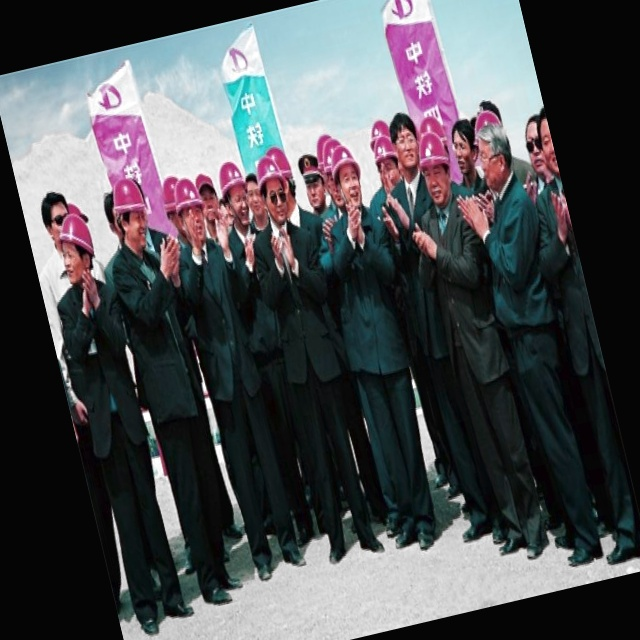Con_Casco: (325, 142, 372, 219), (109, 175, 155, 252)
Sin_Casco_Mascarrilla: (473, 119, 519, 190), (386, 110, 426, 176)
